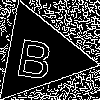B: (14, 30, 57, 80)
